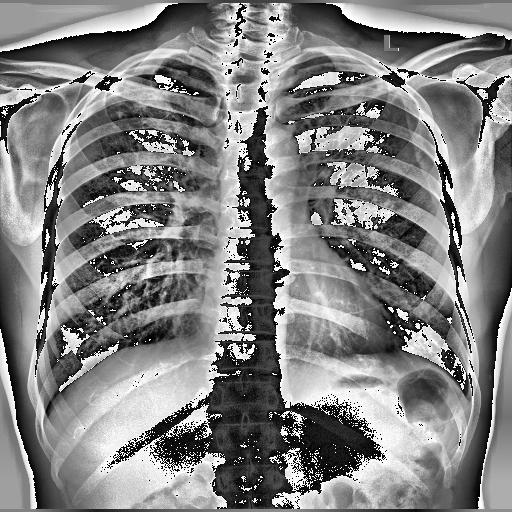11- Pleural thickening: (358, 60, 412, 102), (374, 69, 412, 98), (126, 60, 191, 72)
13- Pulmonary fibrosis: (110, 76, 184, 134), (104, 85, 192, 127), (106, 74, 156, 124), (340, 75, 386, 123), (350, 90, 380, 124), (362, 126, 398, 153)
